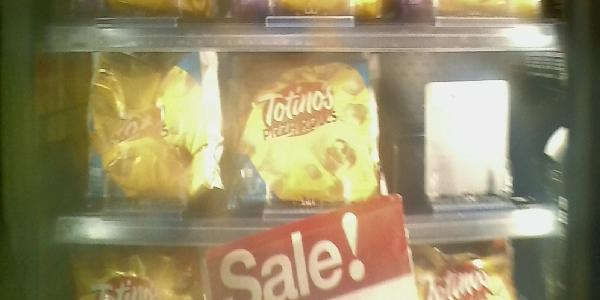icecream: (224, 50, 401, 226), (88, 49, 223, 220)
